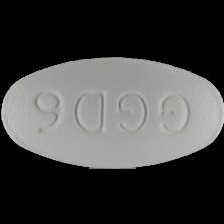43353-693: (0, 0, 224, 224)
